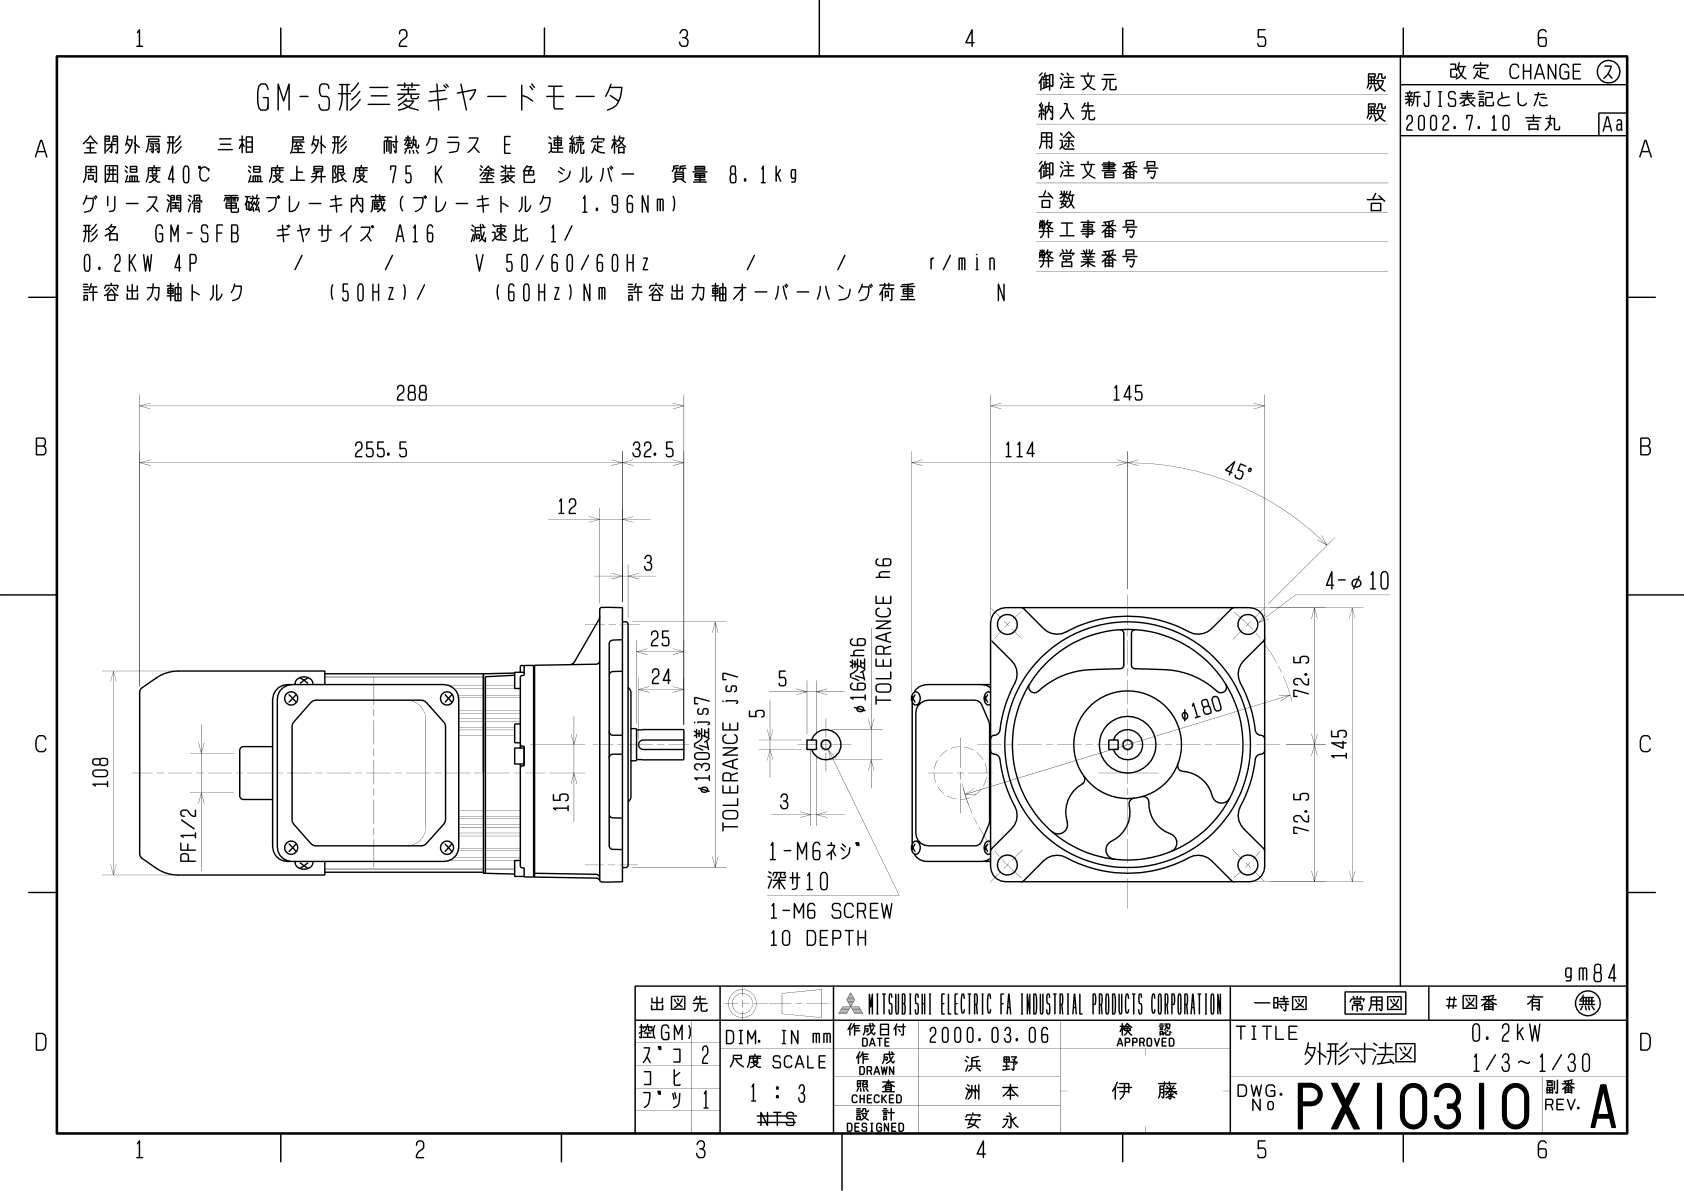GM_S_屋外＿三相_フランジ: (10, 3, 1683, 1191)
